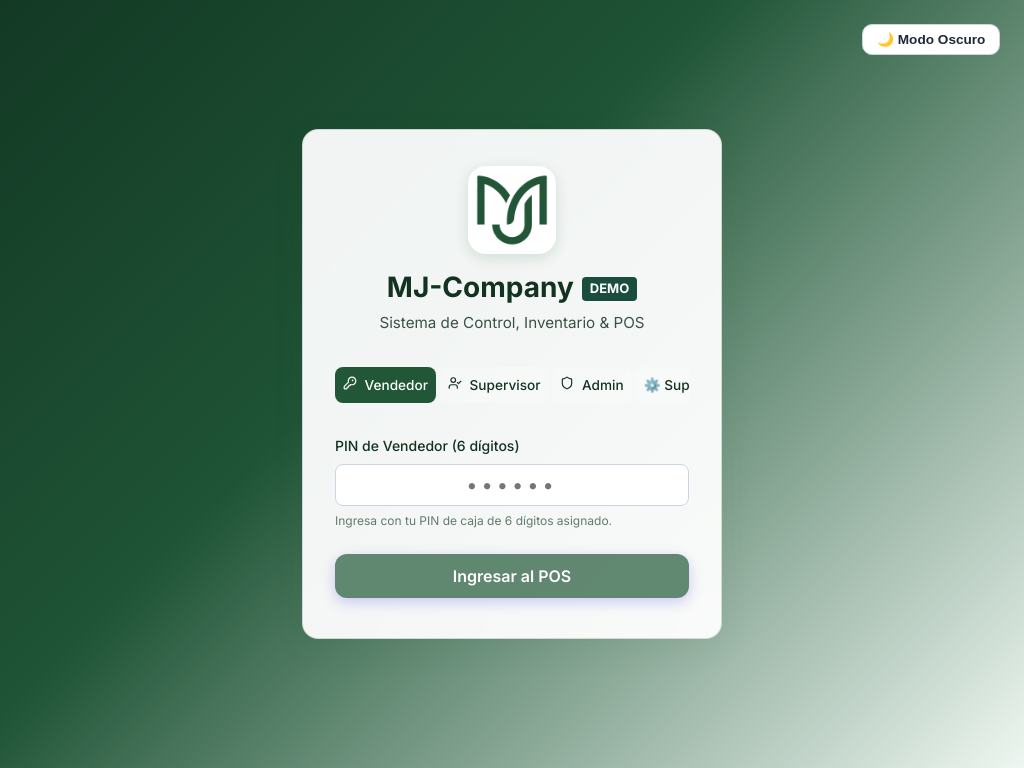
Test: MJ-Company UI & Authentication Unit Tests › renders corporate simulated email input (@mjcompany.io) for Supervisor and Admin tabs without PIN
The width and height of the screenshot is (1024, 768).
Switch to Supervisor tab
Click the element titled "Supervisor". click: (494, 385)
box: top-left (440, 366), bottom-right (548, 403)
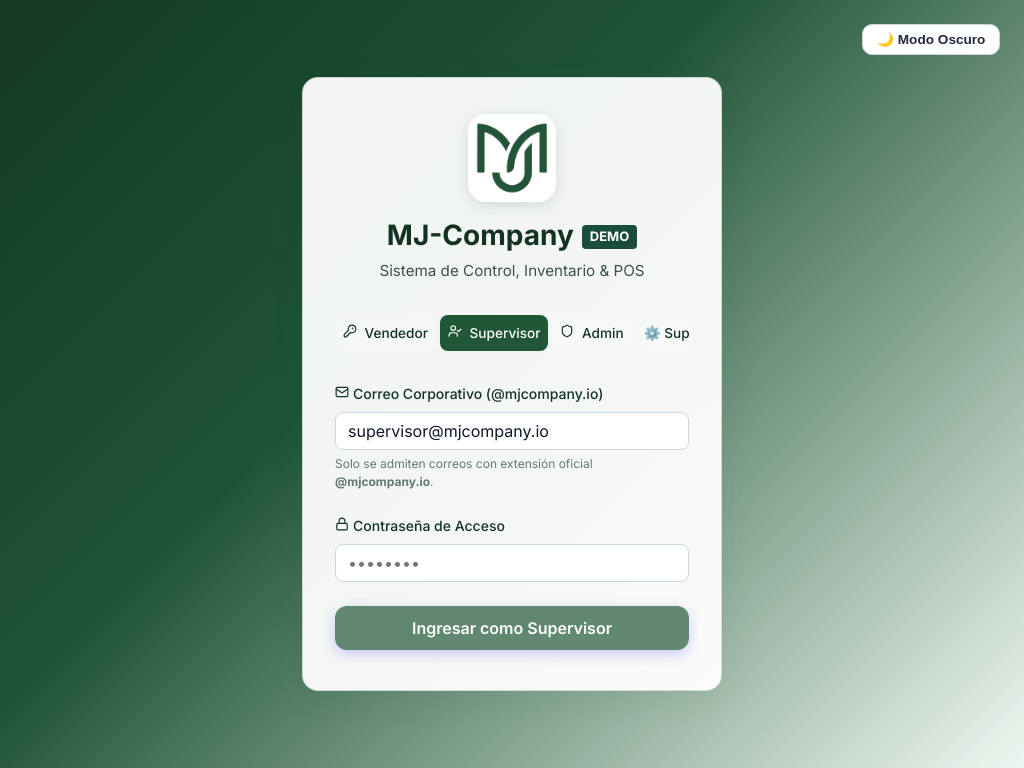
Now the field with placeholder "supervisor@mjcompany.io" is shown, box top-left (335, 412), bottom-right (689, 450)
Now the button "Ingresar como Supervisor" is shown, box top-left (335, 606), bottom-right (689, 650)
Now the password field with placeholder "••••••" is gone
Switch to Admin tab
Click the element titled "Admin". click: (592, 333)
box: top-left (552, 315), bottom-right (632, 351)
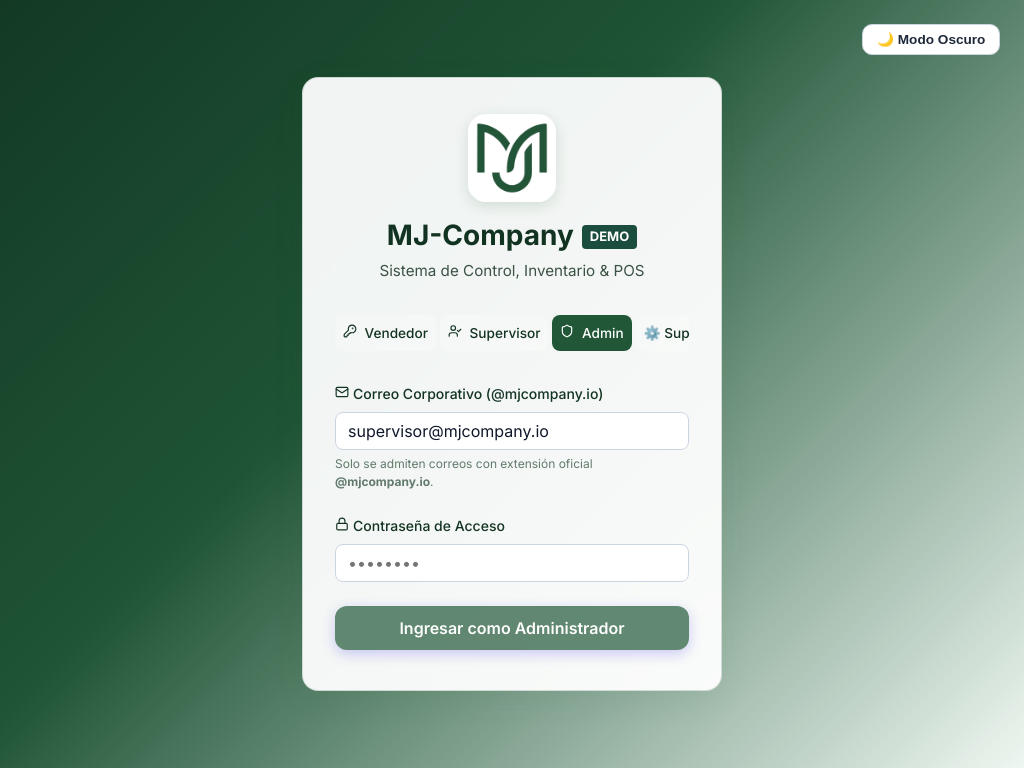
Expected: the field with placeholder "admin@mjcompany.io" is shown, top-left (335, 412), bottom-right (689, 450)
Now the button "Ingresar como Administrador" is shown, box top-left (335, 606), bottom-right (689, 650)
